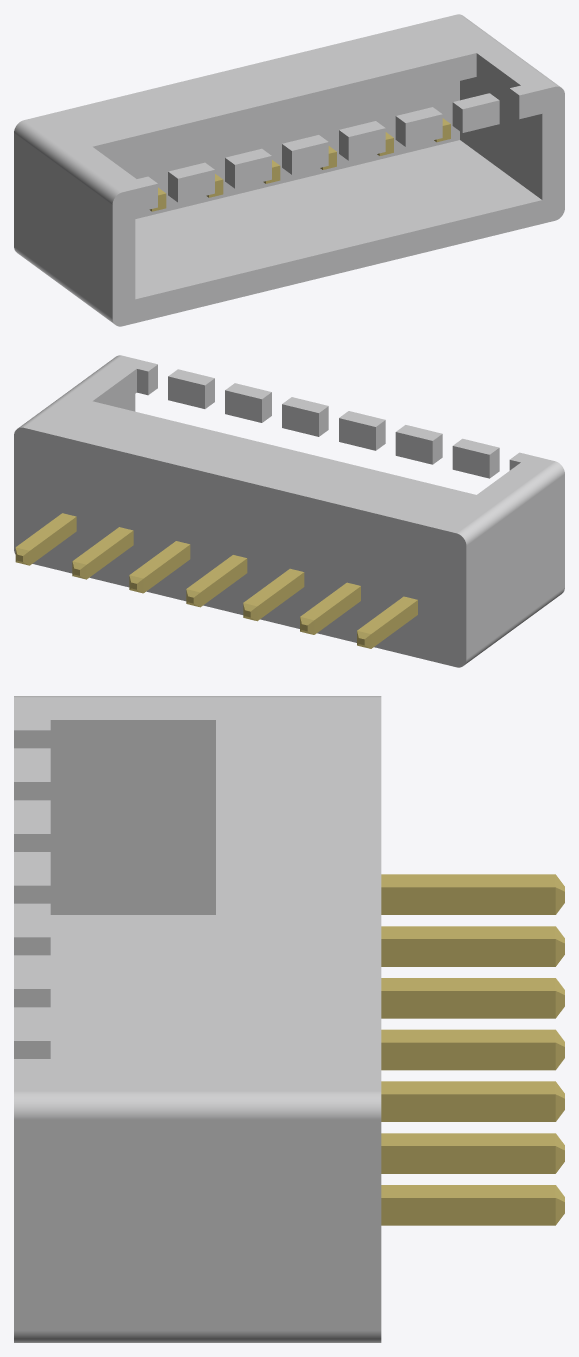
The model's file is jst_ph_7pin.glb.
3 renders of one model, top to bottom at view 1: azimuth 30°, elevation 25°; view 2: azimuth 150°, elevation 25°; view 3: azimuth 270°, elevation 25°, orthographic. The views are drawn at different scales.
Visible parts, largest first — view 1: world; view 2: world; view 3: world.
Boxes of the visible parts, box(x1,y1,x2,y2) form: world: box(14, 14, 564, 326); world: box(14, 355, 564, 667); world: box(14, 696, 564, 1342).
Size of the model in its own units: 15.9 by 4.5 by 9.
